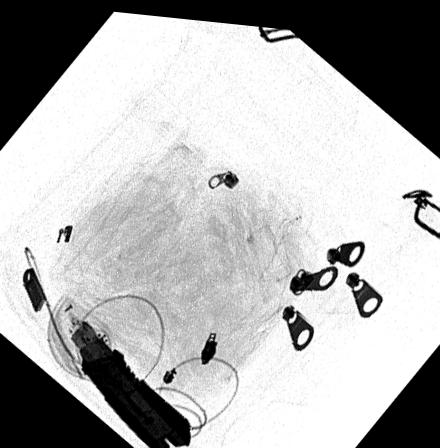Knife: (68, 318, 191, 448)
